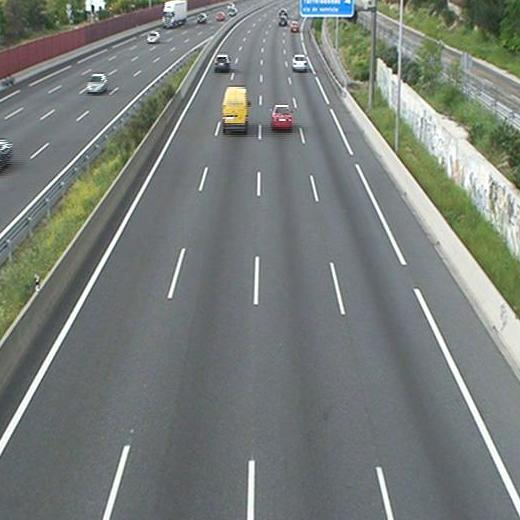car: (271, 106, 292, 128), (292, 54, 307, 71), (214, 56, 230, 70), (290, 21, 300, 32), (278, 16, 287, 26)
van: (223, 87, 249, 131)
